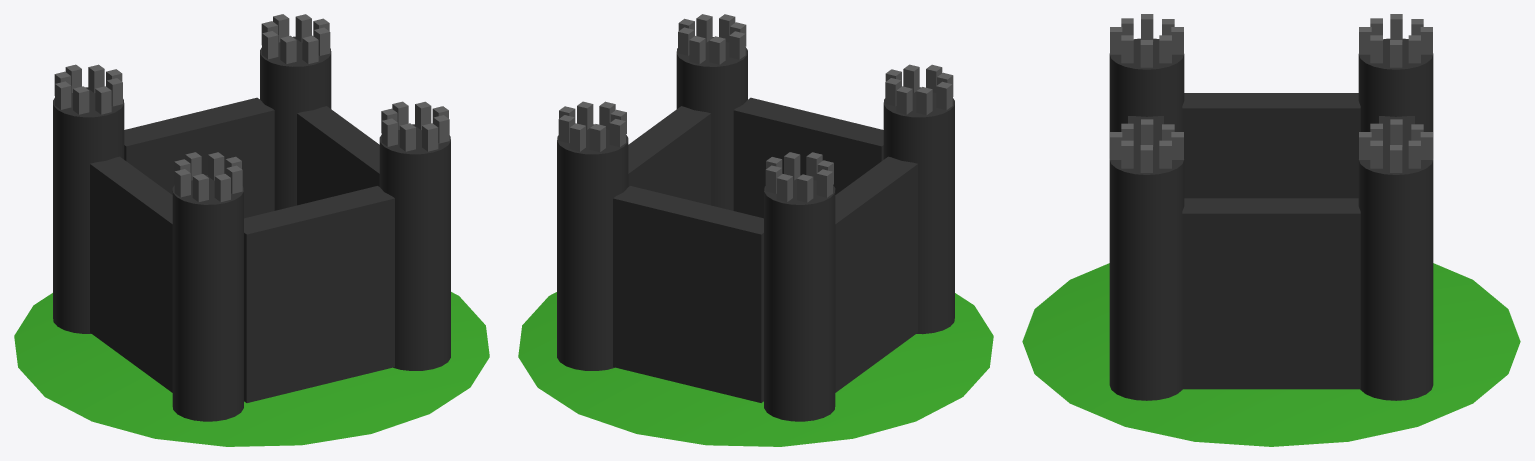
Rendered from CastleSize1.fbx.
3 renders of one model, left to right at view 1: azimuth 30°, elevation 25°; view 2: azimuth 150°, elevation 25°; view 3: azimuth 270°, elevation 25°, orthographic. The views are drawn at different scales.
Parts seen in each view (by area): view 1: pCube12, pCone1, pCylinder3, pCube10, pCylinder4, pCylinder1, pCube9, pCube11, pCylinder2; view 2: pCube9, pCone1, pCylinder1, pCube10, pCylinder2, pCylinder3, pCube12, pCube11, pCylinder4; view 3: pCube11, pCone1, pCube10, pCylinder4, pCylinder2, pCylinder3, pCylinder1, pCube9, pCube12.
Part boxes in pixels (x1,y1,x2,y2): pCube12: (244, 186, 394, 402); pCone1: (14, 292, 489, 446); pCylinder3: (172, 175, 243, 421); pCube10: (90, 156, 172, 392); pCylinder4: (379, 124, 450, 370); pCylinder1: (53, 87, 124, 333); pCube9: (124, 97, 274, 218); pCube11: (297, 106, 379, 205); pCylinder2: (260, 36, 331, 210); pCube9: (613, 186, 763, 402); pCone1: (518, 292, 993, 446); pCylinder1: (764, 175, 835, 421); pCube10: (835, 156, 917, 392); pCylinder2: (557, 124, 628, 370); pCylinder3: (883, 87, 954, 334); pCube12: (733, 97, 883, 218); pCube11: (628, 106, 711, 205); pCylinder4: (676, 37, 747, 210); pCube11: (1182, 198, 1360, 389); pCone1: (1022, 263, 1520, 446); pCube10: (1182, 93, 1360, 198); pCylinder4: (1109, 144, 1184, 400); pCylinder2: (1358, 144, 1433, 400); pCylinder3: (1109, 38, 1184, 158); pCylinder1: (1358, 38, 1433, 158); pCube9: (1379, 116, 1414, 144); pCube12: (1128, 116, 1163, 144).
Bounding box in the file's own units: 4 × 2.3 × 4.
